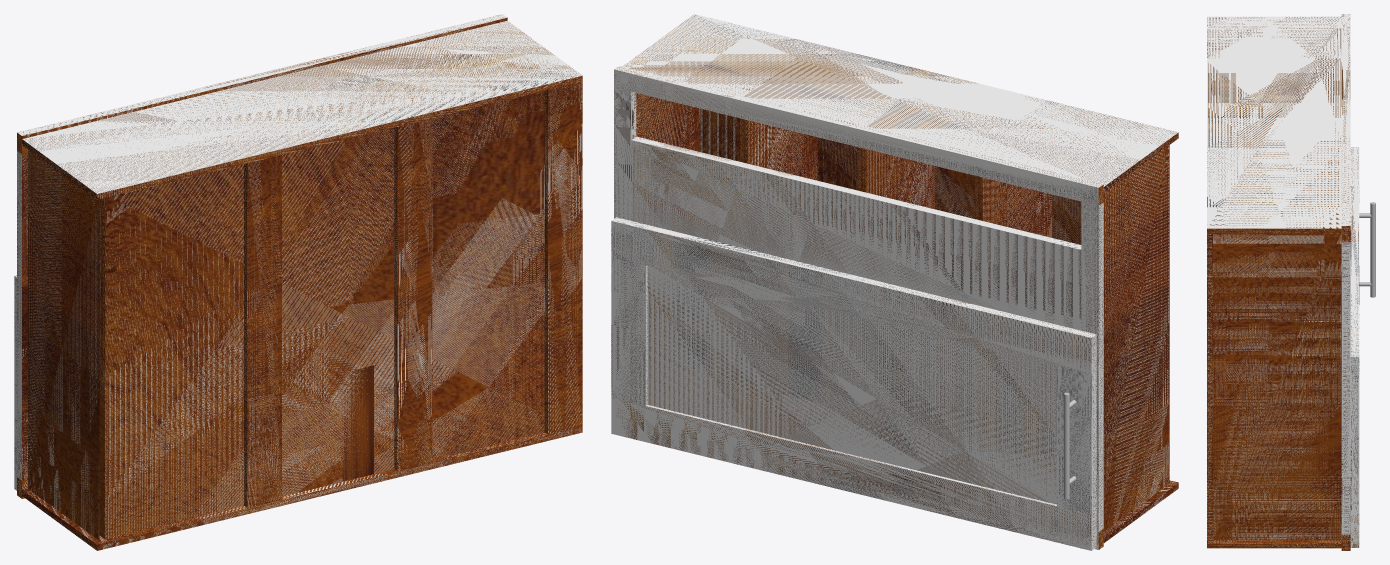
3 views of the same model, side by side, from view 1: azimuth 30°, elevation 25°; view 2: azimuth 150°, elevation 25°; view 3: azimuth 270°, elevation 25° (orthographic). The views are drawn at different scales.
Parts seen in each view (by area): view 1: mesh6_mesh6-geometry, mesh3_mesh3-geometry, mesh8_mesh8-geometry, mesh1_mesh1-geometry, mesh7_mesh7-geometry, mesh9_mesh9-geometry, mesh4_mesh4-geometry, mesh22_mesh22-geometry, mesh2_mesh2-geometry; view 2: mesh17_mesh17-geometry, mesh11_mesh11-geometry, mesh8_mesh8-geometry, mesh1_mesh1-geometry, mesh14_mesh14-geometry, mesh13_mesh13-geometry, mesh9_mesh9-geometry, mesh12_mesh12-geometry, mesh4_mesh4-geometry, mesh5_mesh5-geometry, mesh15_mesh15-geometry, mesh16_mesh16-geometry (+2 smaller); view 3: mesh2_mesh2-geometry, mesh8_mesh8-geometry, mesh4_mesh4-geometry, mesh14_mesh14-geometry, mesh9_mesh9-geometry, mesh3_mesh3-geometry, mesh15_mesh15-geometry, mesh7_mesh7-geometry, mesh21_mesh21-geometry, mesh13_mesh13-geometry.
Boxes of the visible parts, bbox=[...] form: mesh6_mesh6-geometry: bbox=[105, 91, 544, 539]; mesh3_mesh3-geometry: bbox=[244, 82, 582, 508]; mesh8_mesh8-geometry: bbox=[22, 20, 582, 199]; mesh1_mesh1-geometry: bbox=[28, 150, 99, 540]; mesh7_mesh7-geometry: bbox=[22, 426, 582, 550]; mesh9_mesh9-geometry: bbox=[17, 14, 507, 154]; mesh4_mesh4-geometry: bbox=[17, 151, 27, 480]; mesh22_mesh22-geometry: bbox=[342, 365, 373, 481]; mesh2_mesh2-geometry: bbox=[99, 198, 105, 538]; mesh17_mesh17-geometry: bbox=[647, 266, 1056, 504]; mesh11_mesh11-geometry: bbox=[631, 136, 1081, 330]; mesh8_mesh8-geometry: bbox=[622, 14, 1178, 192]; mesh1_mesh1-geometry: bbox=[636, 93, 1169, 531]; mesh14_mesh14-geometry: bbox=[611, 217, 1096, 374]; mesh13_mesh13-geometry: bbox=[611, 397, 1096, 550]; mesh9_mesh9-geometry: bbox=[614, 66, 1103, 205]; mesh12_mesh12-geometry: bbox=[739, 118, 1052, 237]; mesh4_mesh4-geometry: bbox=[614, 87, 1103, 531]; mesh5_mesh5-geometry: bbox=[699, 108, 1081, 244]; mesh15_mesh15-geometry: bbox=[611, 257, 647, 405]; mesh16_mesh16-geometry: bbox=[1057, 366, 1096, 514]; mesh2_mesh2-geometry: bbox=[1213, 234, 1341, 540]; mesh8_mesh8-geometry: bbox=[1207, 16, 1341, 234]; mesh4_mesh4-geometry: bbox=[1341, 242, 1350, 534]; mesh14_mesh14-geometry: bbox=[1350, 147, 1359, 389]; mesh9_mesh9-geometry: bbox=[1341, 14, 1350, 242]; mesh3_mesh3-geometry: bbox=[1207, 234, 1212, 542]; mesh15_mesh15-geometry: bbox=[1350, 389, 1359, 515]; mesh7_mesh7-geometry: bbox=[1207, 540, 1341, 548]; mesh21_mesh21-geometry: bbox=[1370, 202, 1375, 297]; mesh13_mesh13-geometry: bbox=[1350, 515, 1359, 547].
Bounding box in the file's own units: 0.7849 × 0.5606 × 0.264.
